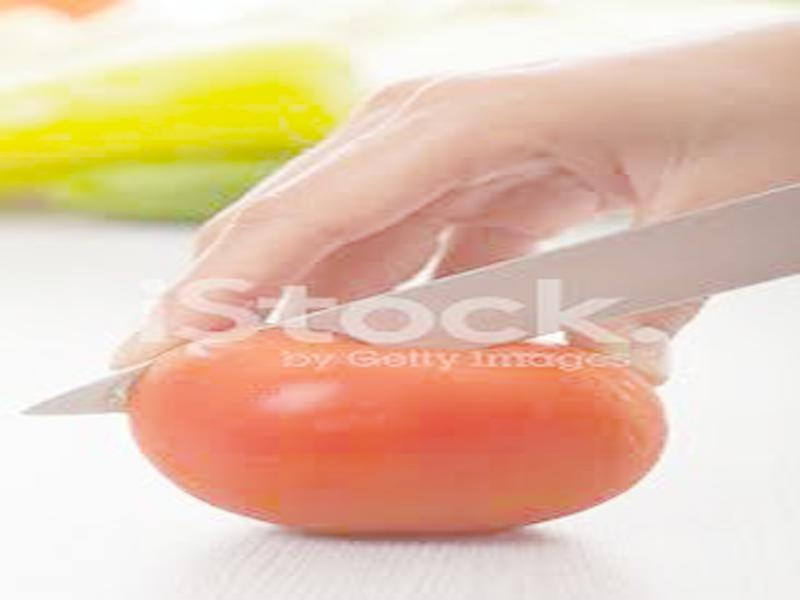Tomato: (127, 329, 673, 539)
